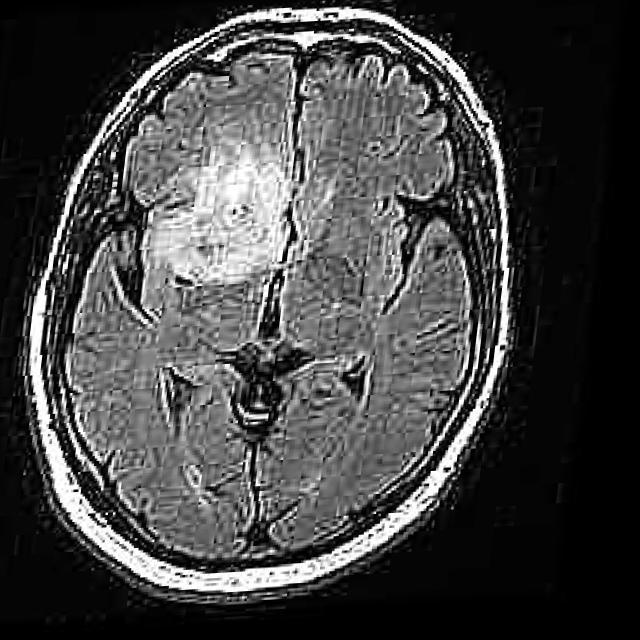Tumor: (154, 156, 294, 289)
